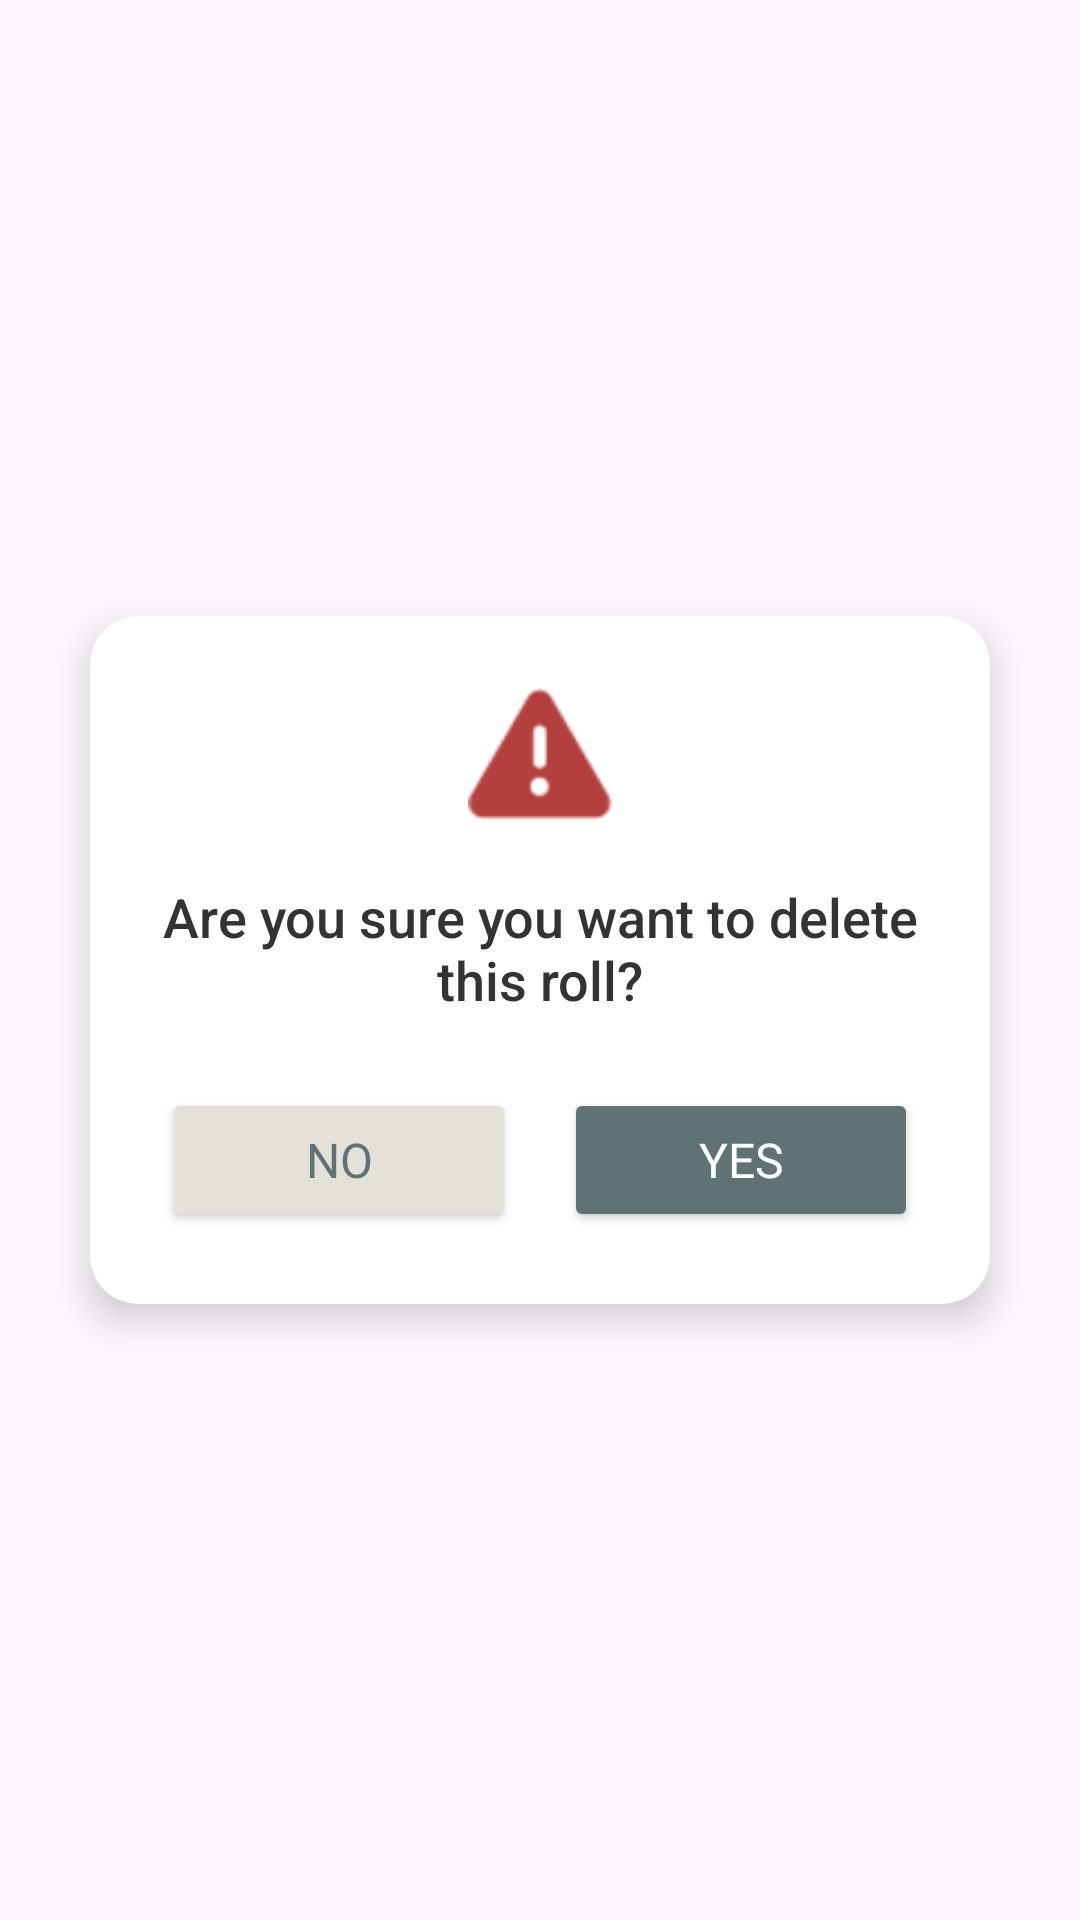

Screen size 1080px×1920px. Icon name, then its center in pixels as [x,y]:
alert: [540,753]
